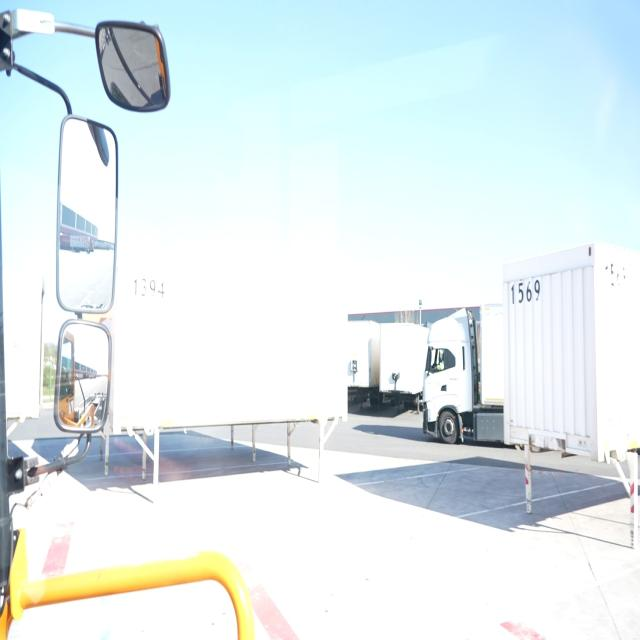Code: (507, 276, 546, 312), (131, 272, 168, 305)
